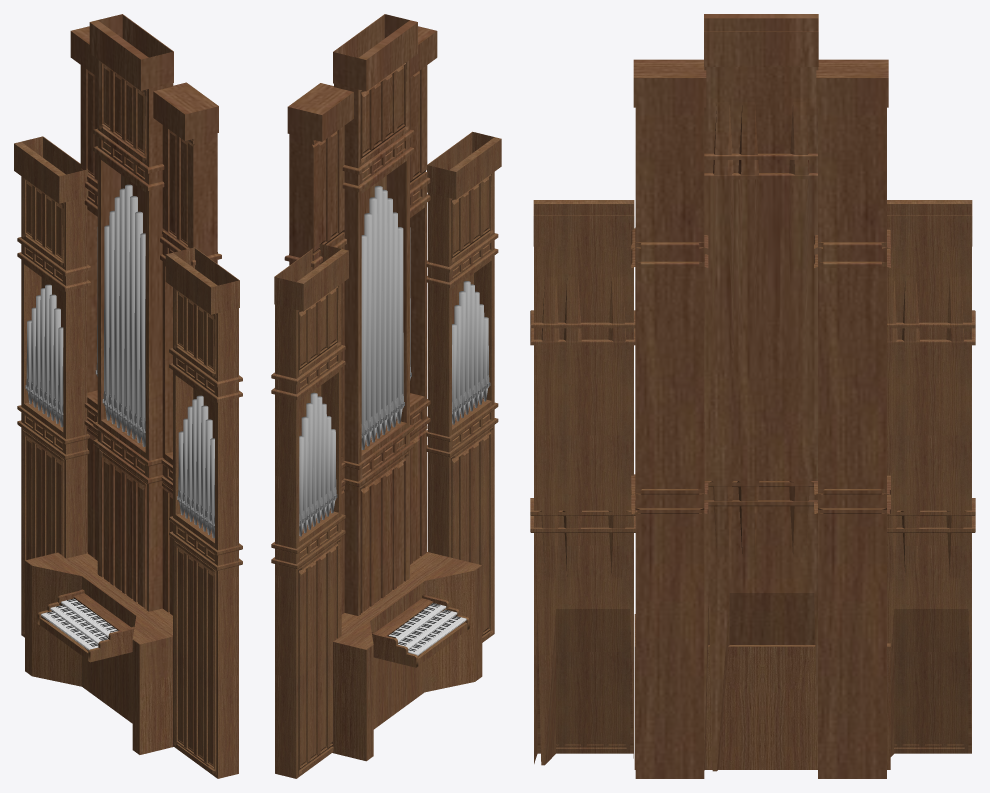
The model's file is pipeorgan.glb.
3 renders of one model, left to right at view 1: azimuth 30°, elevation 25°; view 2: azimuth 150°, elevation 25°; view 3: azimuth 270°, elevation 25°, orthographic. The views are drawn at different scales.
Parts seen in each view (by area): view 1: Cube.004, Cube.012, Cube.003, Cube.005, Cube.001, Cube.002, Cylinder.024, Cylinder.029, Cylinder.025, Cylinder.030, Cylinder.026, Cylinder.031 (+21 smaller); view 2: Cube.003, Cube.012, Cube.004, Cube.005, Cube.002, Cube.001, Cylinder.029, Cylinder.024, Cylinder.030, Cylinder.025, Cylinder.026, Cylinder.031 (+21 smaller); view 3: Cube.012, Cube.004, Cube.001, Cube.002, Cube.003, Cube.005.
Part boxes in pixels (x1,y1,x2,y2): Cube.004: (165, 247, 242, 778); Cube.012: (89, 14, 173, 611); Cube.003: (14, 136, 91, 637); Cube.005: (25, 552, 173, 754); Cube.001: (153, 82, 221, 615); Cube.002: (70, 26, 97, 560); Cylinder.024: (123, 184, 132, 435); Cylinder.029: (118, 188, 125, 431); Cylinder.025: (128, 196, 137, 439); Cylinder.030: (112, 196, 120, 428); Cylinder.026: (133, 211, 142, 442); Cylinder.031: (107, 210, 115, 424); Cube.003: (271, 243, 348, 778); Cube.012: (333, 14, 417, 615); Cube.004: (426, 131, 501, 642); Cube.005: (332, 552, 482, 761); Cube.002: (284, 83, 353, 614); Cube.001: (410, 26, 437, 564); Cylinder.029: (369, 197, 379, 442); Cylinder.024: (374, 185, 384, 438); Cylinder.030: (364, 213, 373, 446); Cylinder.025: (381, 189, 389, 434); Cylinder.026: (386, 198, 394, 431); Cylinder.031: (361, 235, 368, 449); Cube.012: (704, 14, 818, 771); Cube.004: (530, 200, 637, 765); Cube.001: (631, 59, 708, 778); Cube.002: (814, 59, 890, 778); Cube.003: (880, 200, 975, 756); Cube.005: (634, 614, 890, 769).
Size of the model in its own units: 1.15 by 7.37 by 4.01.
Materials: 9 (6 with a texture image).
